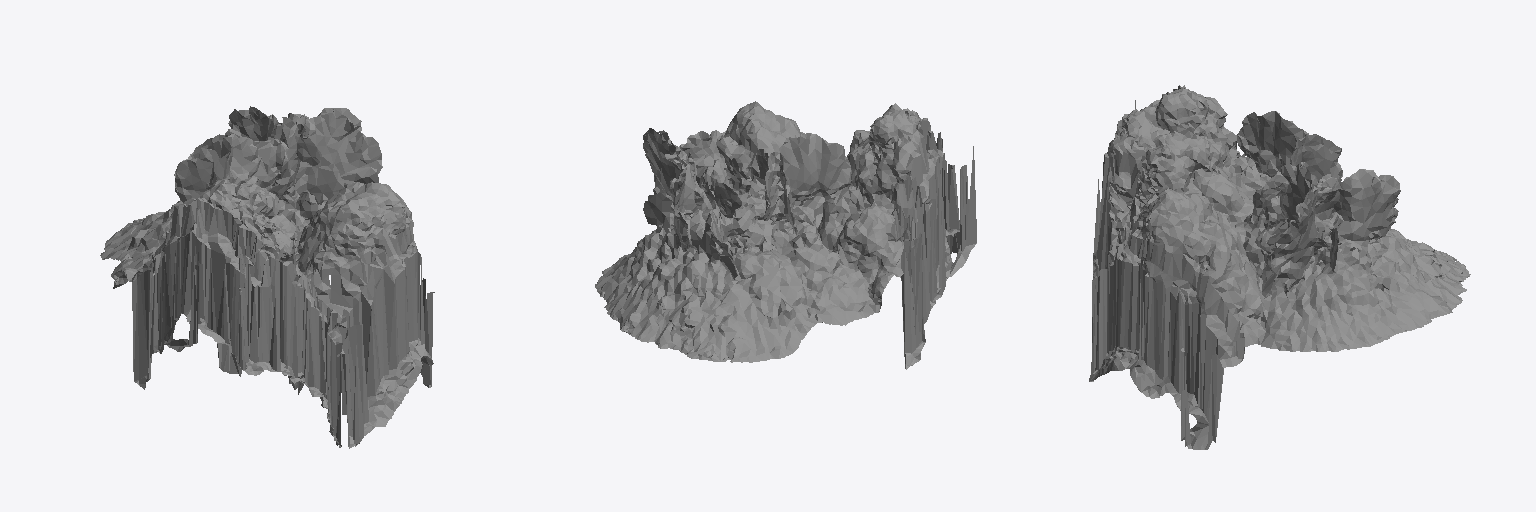
The model's file is SfM_001_02.obj.
3 renders of one model, left to right at view 1: azimuth 30°, elevation 25°; view 2: azimuth 150°, elevation 25°; view 3: azimuth 270°, elevation 25°, orthographic.
Parts seen in each view (by area): view 1: SfM_001_02; view 2: SfM_001_02; view 3: SfM_001_02.
Part boxes in pixels (x1,y1,x2,y2): SfM_001_02: (100,106,434,448); SfM_001_02: (595,101,976,369); SfM_001_02: (1089,85,1470,449).
Bounding box in the file's own units: 145 × 130 × 173.